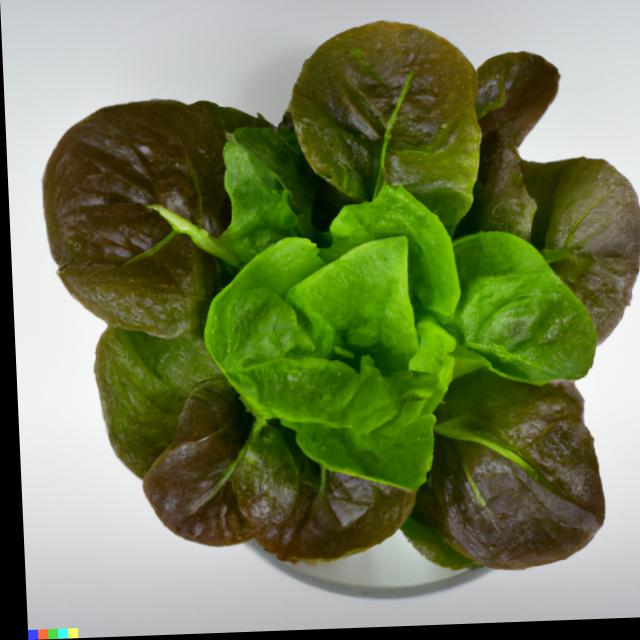-P: (21, 1, 640, 602)
